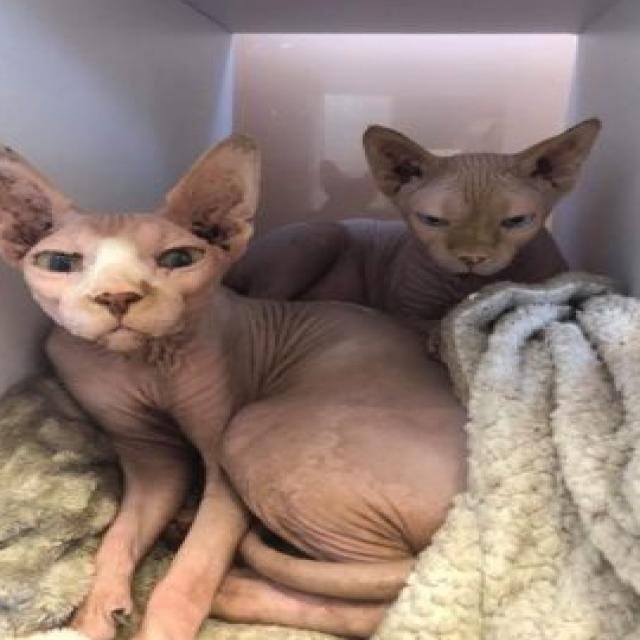Sphynx: (0, 130, 472, 640), (223, 109, 604, 304)
